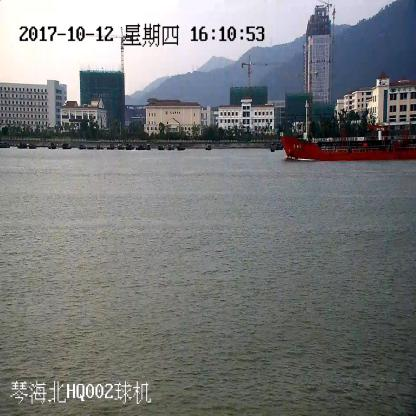Bulk Carrier: (280, 104, 416, 163)
